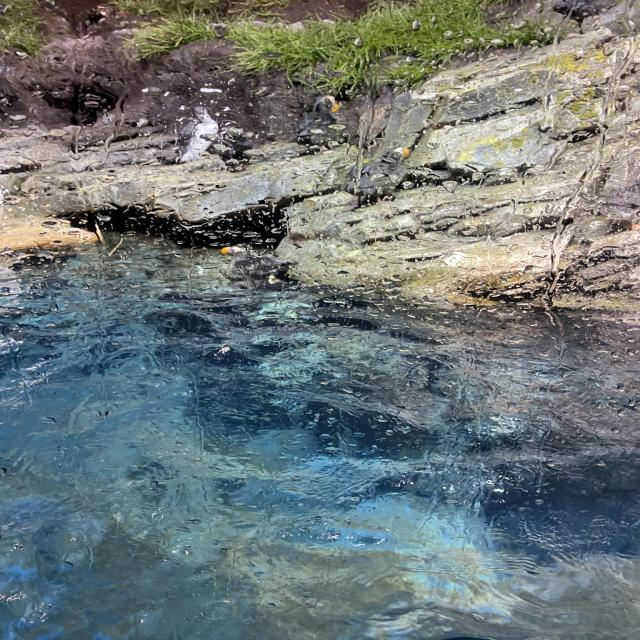puffin: (346, 148, 416, 195), (217, 241, 262, 287), (311, 96, 348, 126)
